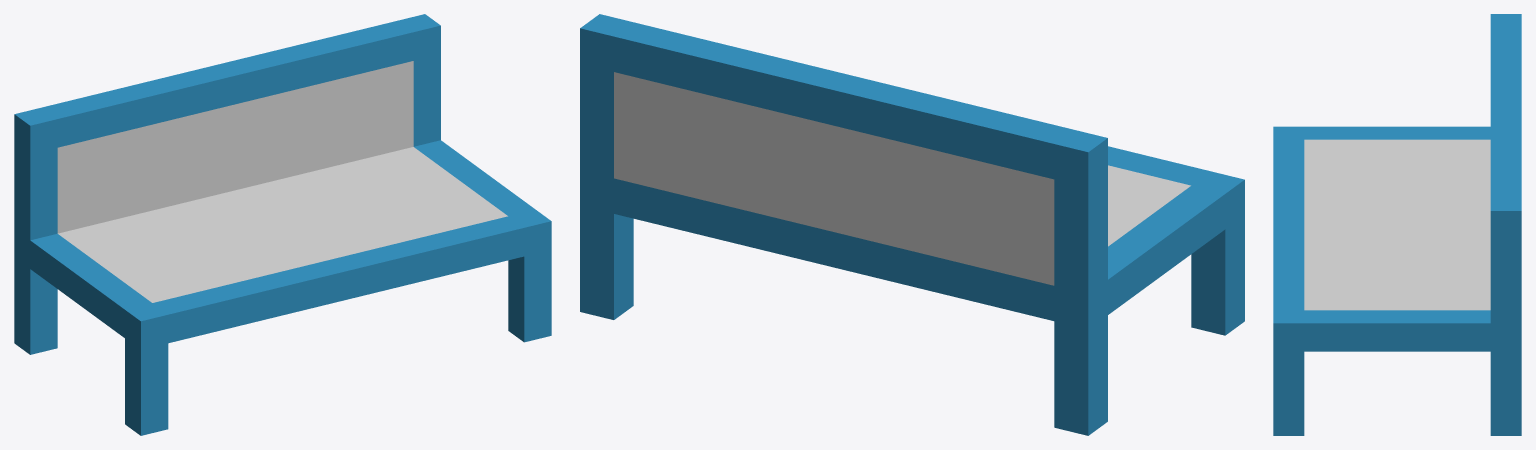
File: obj_bench1.obj
The picture shows the model from 3 angles, left to right: view 1: azimuth 30°, elevation 25°; view 2: azimuth 150°, elevation 25°; view 3: azimuth 270°, elevation 25°; orthographic projection. The views are drawn at different scales.
Bounding box in the file's own units: 1.5 × 0.8 × 0.8.
1 material, 1 textured.
